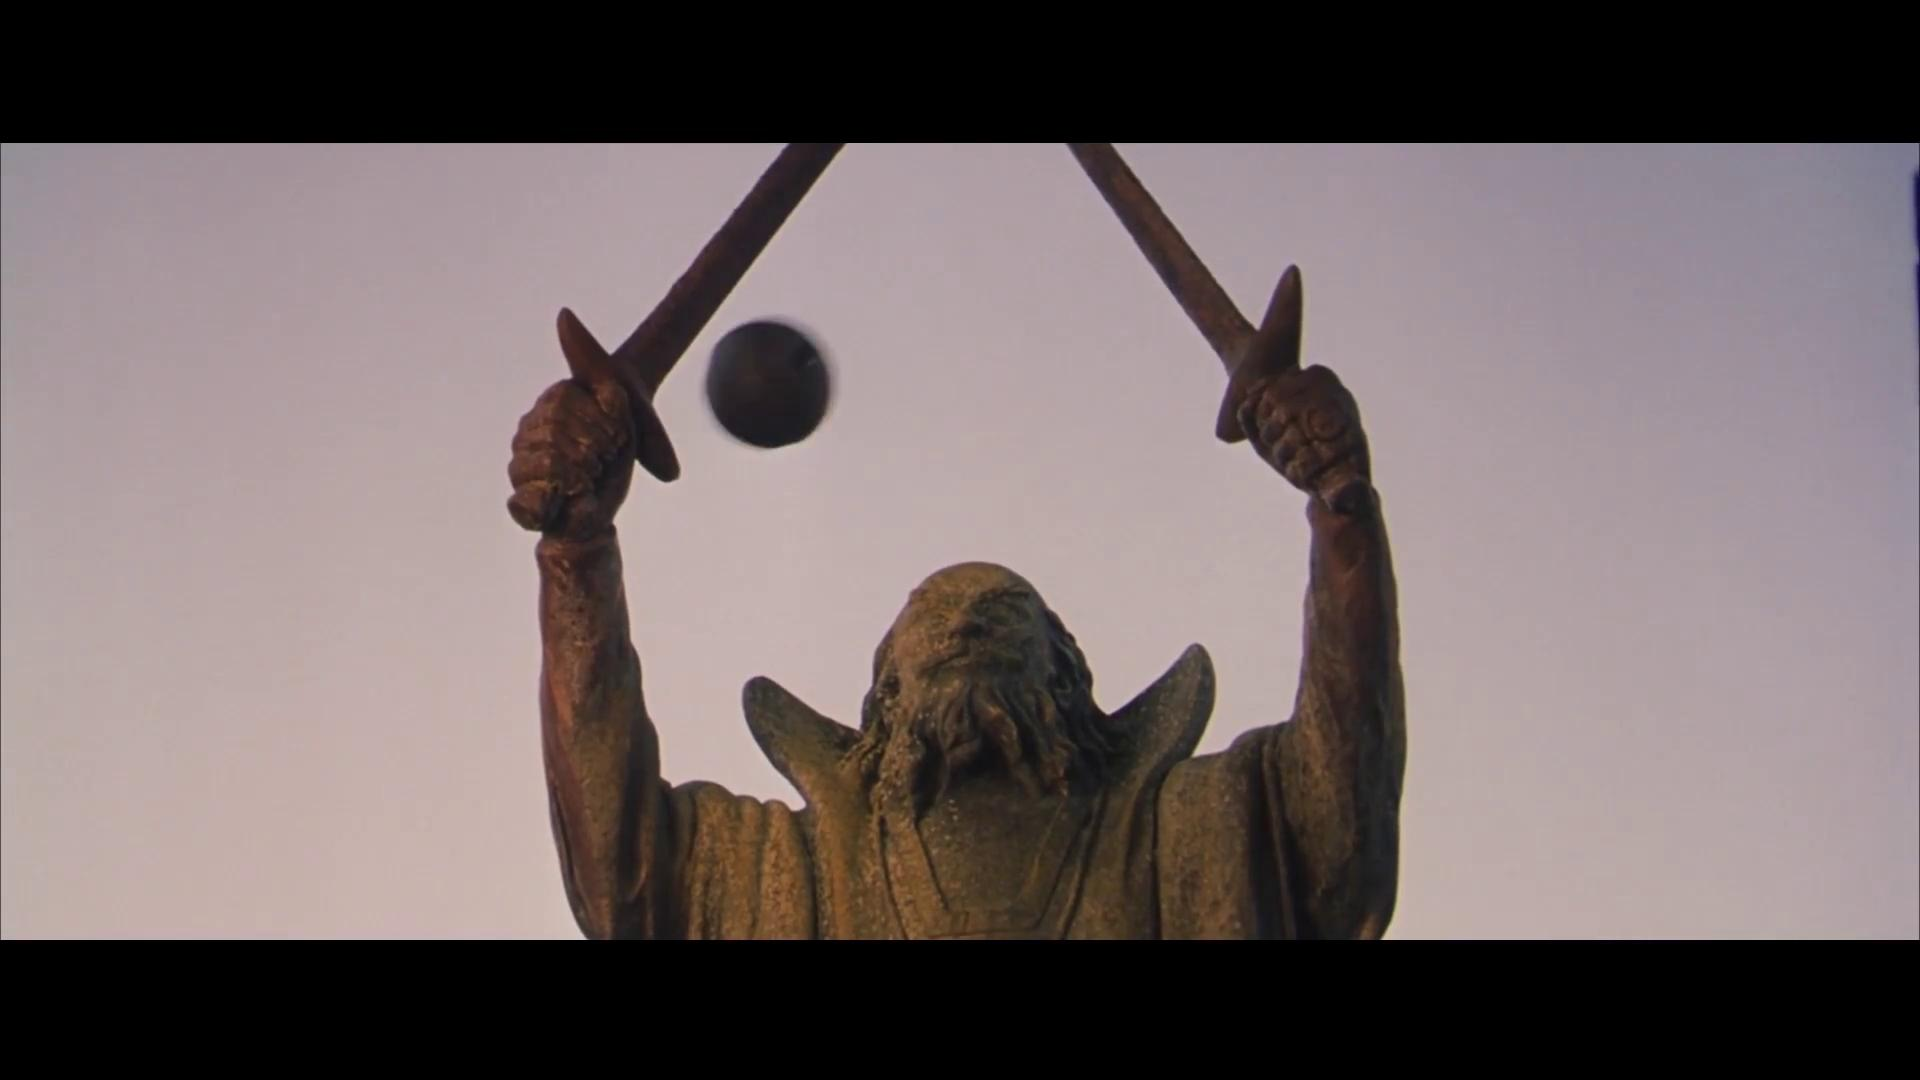bludger: (708, 320, 836, 450)
